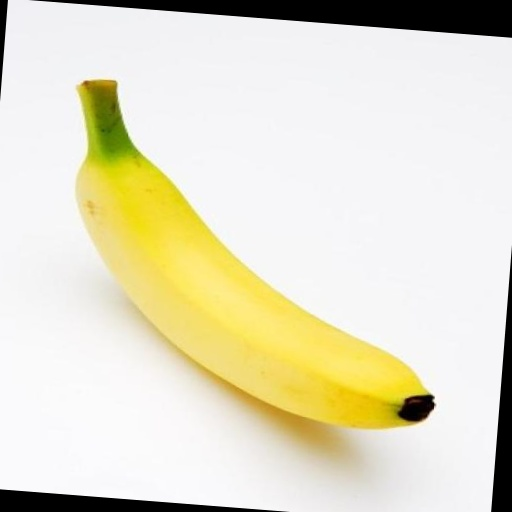fruit: (76, 80, 433, 428)
